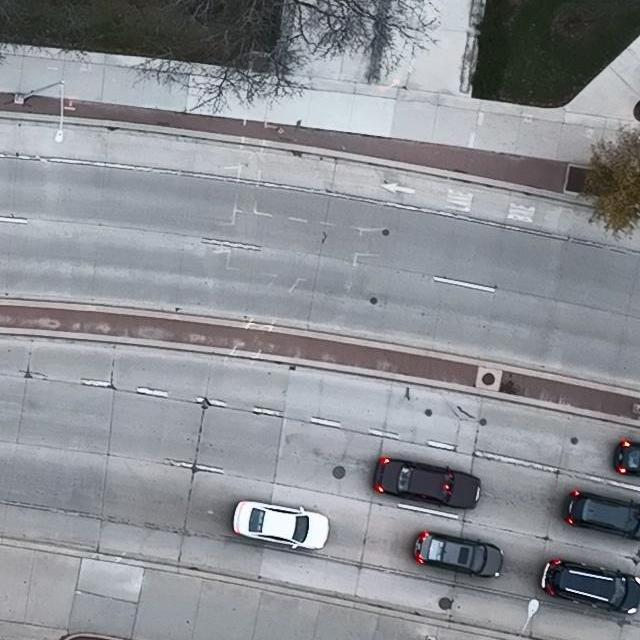car: (541, 557, 640, 615), (373, 456, 481, 509), (231, 501, 329, 550), (414, 531, 504, 578), (563, 489, 640, 540), (614, 438, 640, 478)
